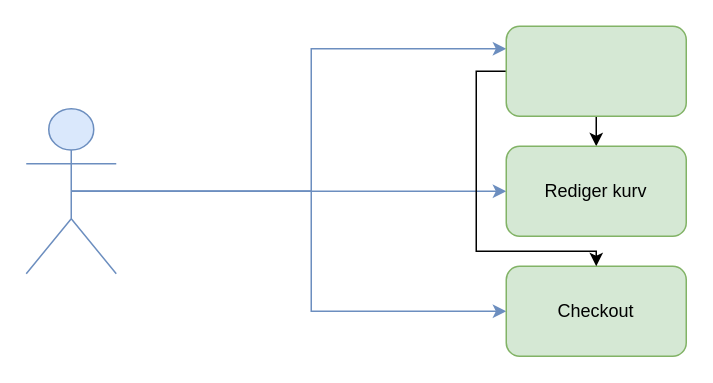
Some shapes in this 713 by 383 pixel diagram are drawn without their labels. Each missing label, with the centre of its shape:
"Bruger" belongs at [70,190].
"Se kurv" belongs at [595,70].
